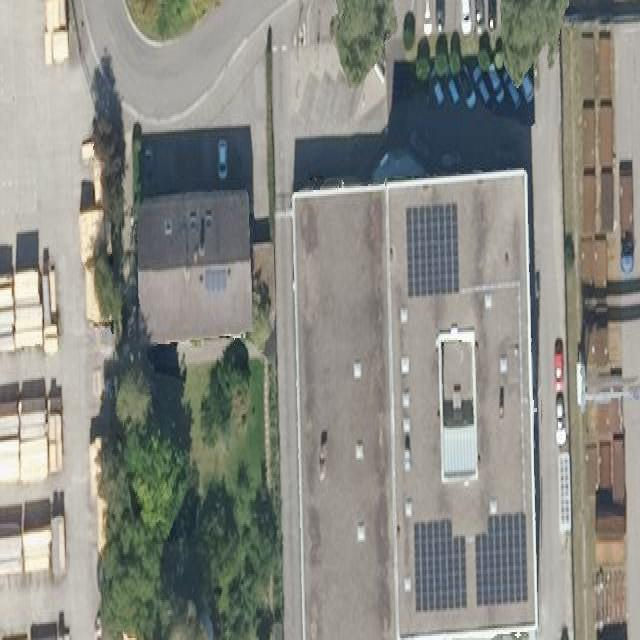PV: (471, 505, 532, 613), (409, 513, 470, 618), (404, 199, 461, 306)
